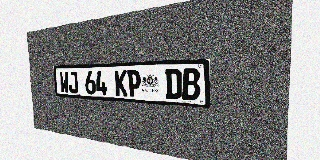4: (95, 71, 107, 95)
6: (85, 71, 96, 95)
B: (182, 68, 200, 101)
D: (165, 69, 182, 100)
J: (68, 71, 78, 94)
K: (114, 70, 128, 97)
P: (127, 70, 141, 97)
W: (59, 71, 69, 93)
